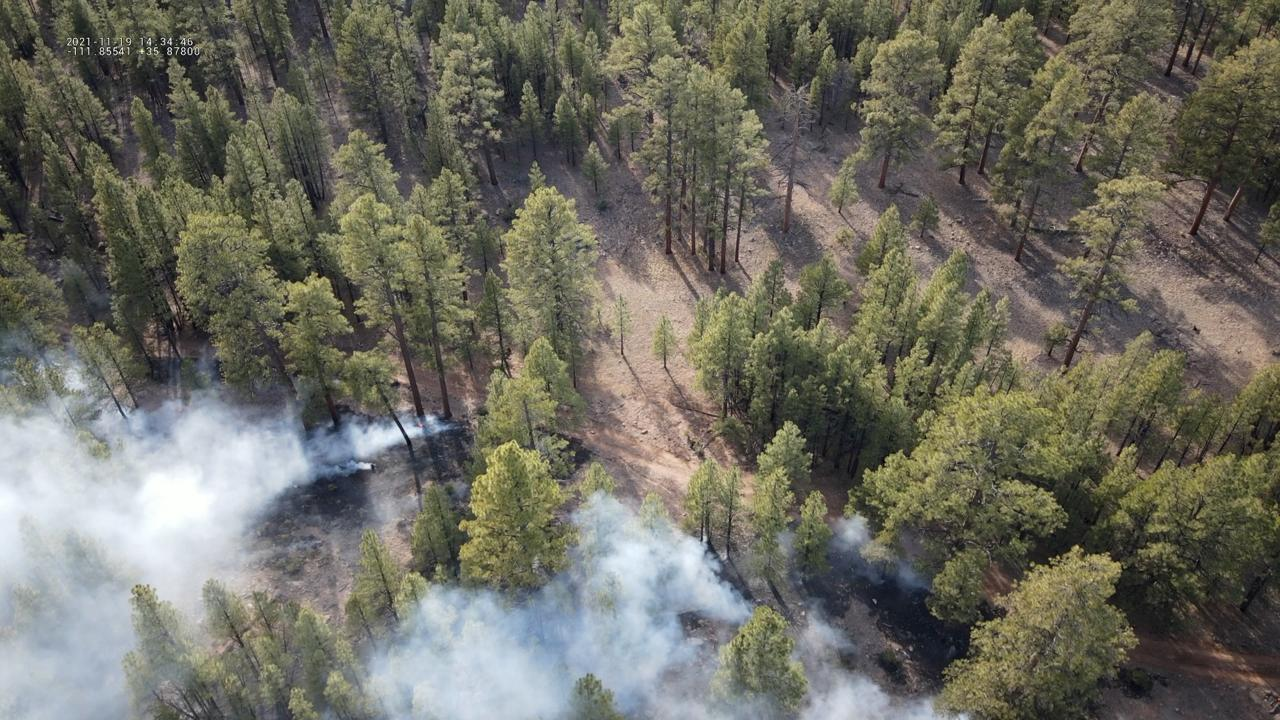smoke: (0, 390, 466, 720), (317, 487, 970, 720), (829, 511, 931, 590), (780, 528, 797, 563)
